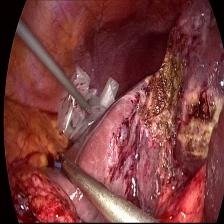Bipolar: (47, 142, 72, 176)
Irrigator: (79, 93, 92, 123)
Specimen Bag: (51, 60, 129, 143)
